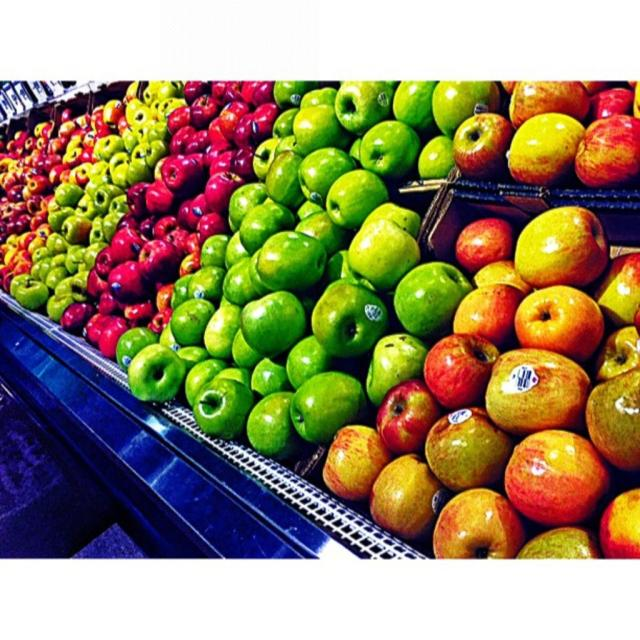Healty Apple: (2, 77, 639, 560), (428, 413, 520, 482)
